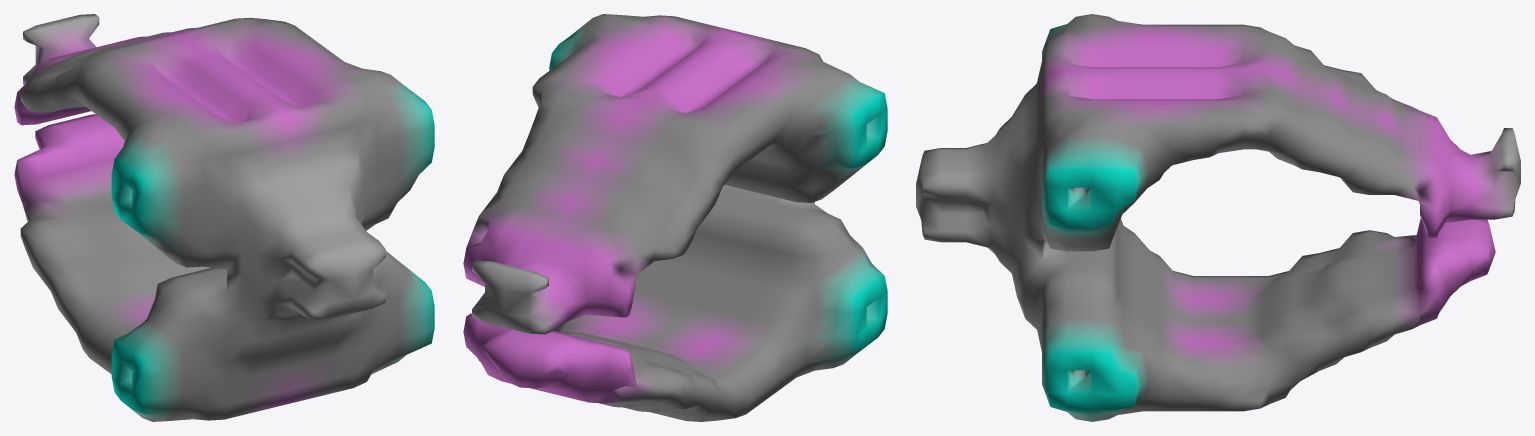
The picture shows the model from 3 angles, left to right: view 1: azimuth 30°, elevation 25°; view 2: azimuth 150°, elevation 25°; view 3: azimuth 270°, elevation 25°; orthographic projection.
Bounding box in the file's own units: 0.69 × 0.65 × 1.2.
